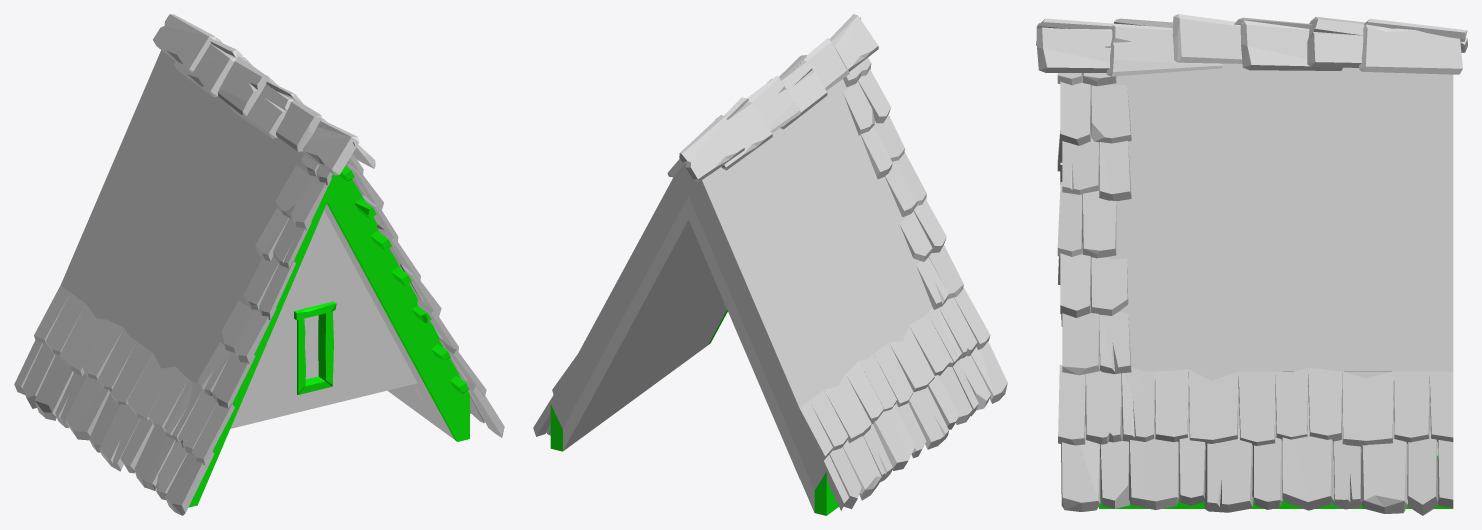
The model's file is SM_Window_Roof_A_Fantasy.fbx.
3 views of the same model, side by side, from view 1: azimuth 30°, elevation 25°; view 2: azimuth 150°, elevation 25°; view 3: azimuth 270°, elevation 25° (orthographic). The views are drawn at different scales.
Visible parts, largest first — view 1: SM_Window_Roof_A_Fantasy; view 2: SM_Window_Roof_A_Fantasy; view 3: SM_Window_Roof_A_Fantasy.
Part boxes in pixels (left/top/right/bottom): SM_Window_Roof_A_Fantasy: left=14, top=14, right=504, bottom=515; SM_Window_Roof_A_Fantasy: left=533, top=14, right=1007, bottom=515; SM_Window_Roof_A_Fantasy: left=1036, top=14, right=1467, bottom=515.
Size of the model in its own units: 2.87 by 2.96 by 2.8.
